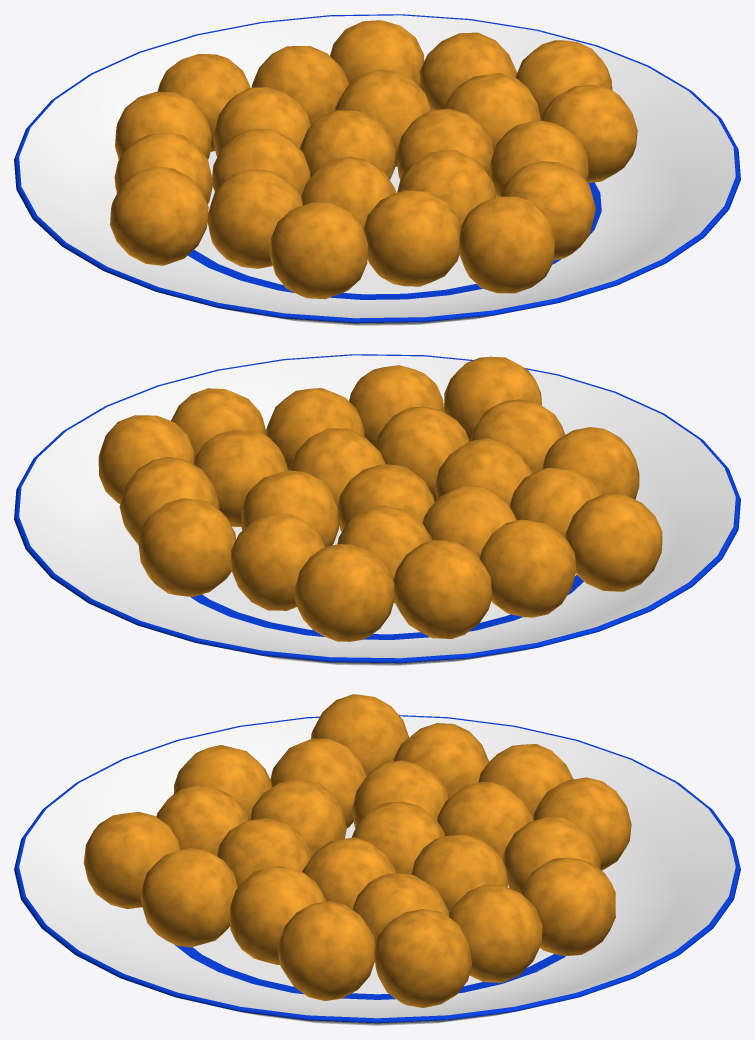
File: eiacreations-fried-5529.glb
3 renders of one model, top to bottom at view 1: azimuth 30°, elevation 25°; view 2: azimuth 150°, elevation 25°; view 3: azimuth 270°, elevation 25°, orthographic.
Visible parts, largest first — view 1: Plate, Lokma.008, Lokma.012, Lokma.019, Lokma.018, Lokma.006, Lokma.003, Lokma.013, Lokma.015, Lokma, Lokma.014, Lokma.016 (+12 smaller); view 2: Plate, Lokma.021, Lokma.004, Lokma.014, Lokma.019, Lokma.020, Lokma.015, Lokma.010, Lokma.017, Lokma.001, Lokma.012, Lokma.008 (+12 smaller); view 3: Plate, Lokma.001, Lokma.003, Lokma.013, Lokma.014, Lokma.016, Lokma.012, Lokma.011, Lokma.021, Lokma.019, Lokma.009, Lokma.022 (+12 smaller).
Part boxes in pixels (<box>): Plate: <box>14,14,740,325</box>; Lokma.008: <box>270,202,368,299</box>; Lokma.012: <box>459,196,555,293</box>; Lokma.019: <box>110,166,208,265</box>; Lokma.018: <box>363,190,460,286</box>; Lokma.006: <box>207,169,302,268</box>; Lokma.003: <box>540,84,637,182</box>; Lokma.013: <box>501,161,595,260</box>; Lokma.015: <box>251,46,349,125</box>; Lokma: <box>299,110,395,179</box>; Lokma.014: <box>330,20,424,87</box>; Lokma.016: <box>419,32,516,109</box>; Plate: <box>14,354,740,665</box>; Lokma.021: <box>295,544,394,641</box>; Lokma.004: <box>393,540,492,638</box>; Lokma.014: <box>138,498,235,596</box>; Lokma.019: <box>565,494,662,591</box>; Lokma.020: <box>480,519,576,617</box>; Lokma.015: <box>231,513,324,610</box>; Lokma.010: <box>194,429,288,526</box>; Lokma.017: <box>375,406,468,502</box>; Lokma.001: <box>98,415,194,503</box>; Lokma.012: <box>444,356,541,441</box>; Lokma.008: <box>542,427,639,499</box>; Plate: <box>14,715,740,1025</box>; Lokma.001: <box>373,909,471,1007</box>; Lokma.003: <box>277,901,375,1000</box>; Lokma.013: <box>140,848,237,947</box>; Lokma.014: <box>521,857,615,955</box>; Lokma.016: <box>449,884,542,982</box>; Lokma.012: <box>83,811,180,908</box>; Lokma.011: <box>229,866,326,964</box>; Lokma.021: <box>533,777,631,870</box>; Lokma.019: <box>311,694,408,775</box>; Lokma.009: <box>411,835,508,915</box>; Lokma.022: <box>437,781,533,860</box>.
Bounding box in the file's own units: 0.2838 × 0.0436 × 0.2838.
3 materials, 1 textured.
